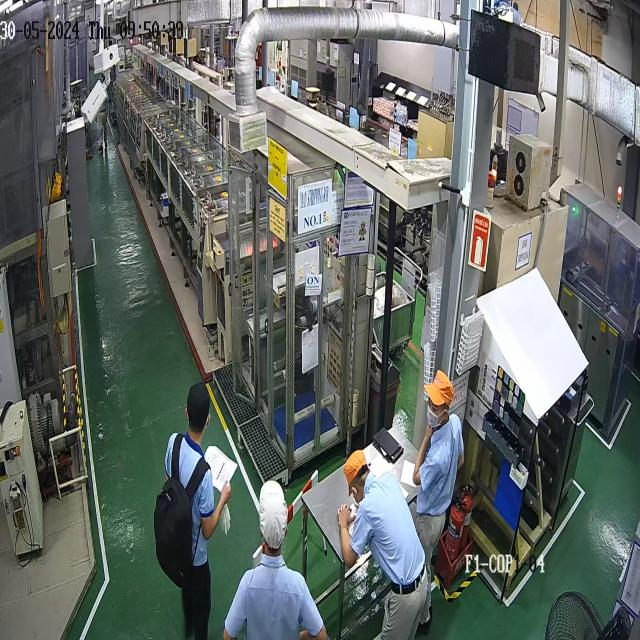Person: (337, 448, 429, 640), (164, 382, 231, 640), (222, 480, 326, 640), (412, 369, 465, 635)
